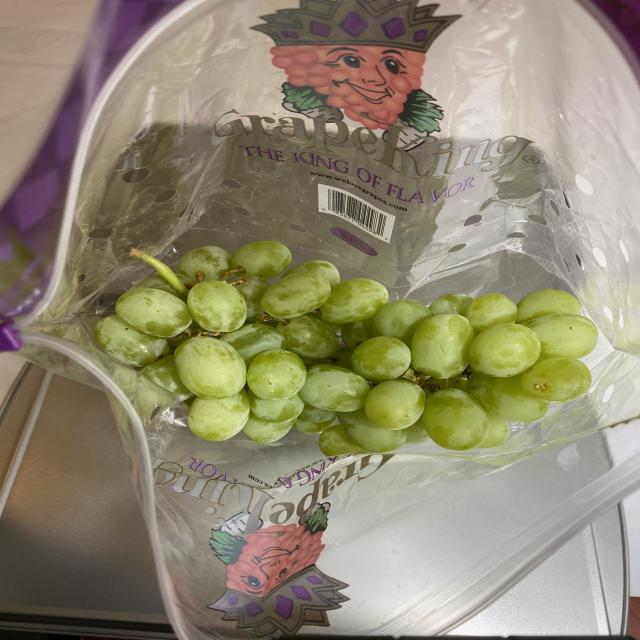grapes: (87, 243, 599, 447)
